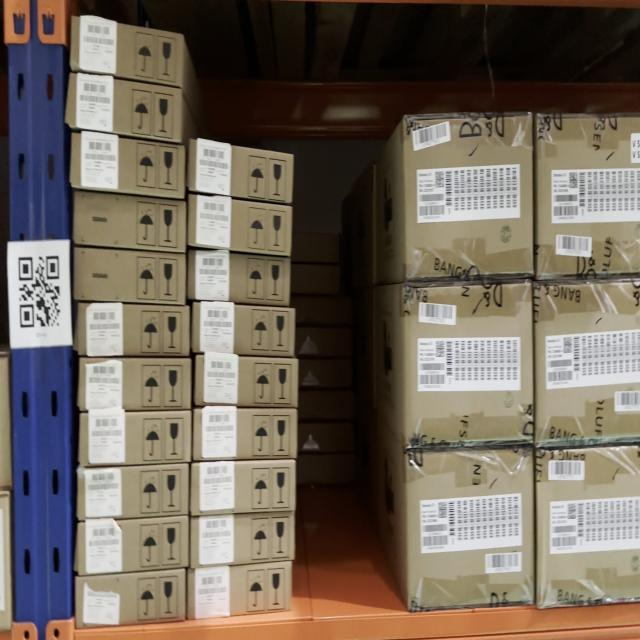box: (403, 114, 533, 282), (403, 449, 537, 610), (404, 288, 534, 448), (537, 111, 640, 279), (534, 283, 640, 446), (535, 446, 640, 601), (71, 126, 187, 195), (72, 12, 185, 81), (70, 71, 184, 136), (75, 188, 187, 250), (74, 246, 187, 304), (194, 140, 294, 204), (78, 410, 190, 467), (78, 299, 190, 356), (194, 352, 300, 412), (188, 192, 293, 252), (189, 247, 292, 307), (78, 465, 193, 517), (74, 572, 188, 624), (76, 520, 190, 572), (80, 355, 188, 409), (192, 302, 299, 356), (190, 459, 294, 513), (190, 406, 298, 458), (188, 566, 293, 616), (189, 514, 294, 562)
